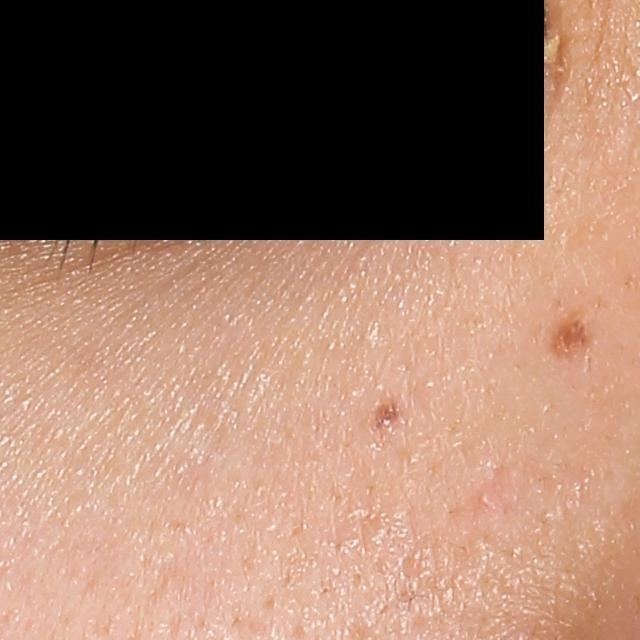nevus: (362, 388, 415, 441), (550, 313, 603, 355)
